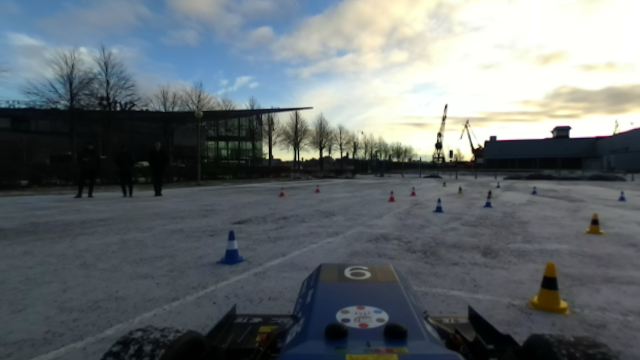blue: (214, 229, 247, 267), (431, 196, 445, 214), (482, 195, 493, 208), (617, 189, 626, 203), (530, 186, 538, 196)
orange: (387, 189, 397, 201), (278, 186, 285, 196), (314, 184, 321, 193), (410, 186, 416, 195)
yellow: (524, 260, 571, 316), (583, 211, 605, 236), (457, 185, 464, 194)
